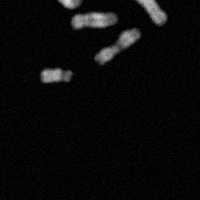chromosome: (94, 26, 141, 65), (116, 0, 168, 24), (68, 8, 117, 29), (40, 68, 74, 86), (49, 0, 89, 9)
